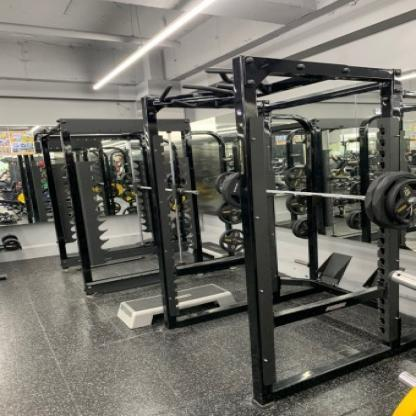smith machine: (140, 55, 416, 409), (33, 119, 202, 295)
